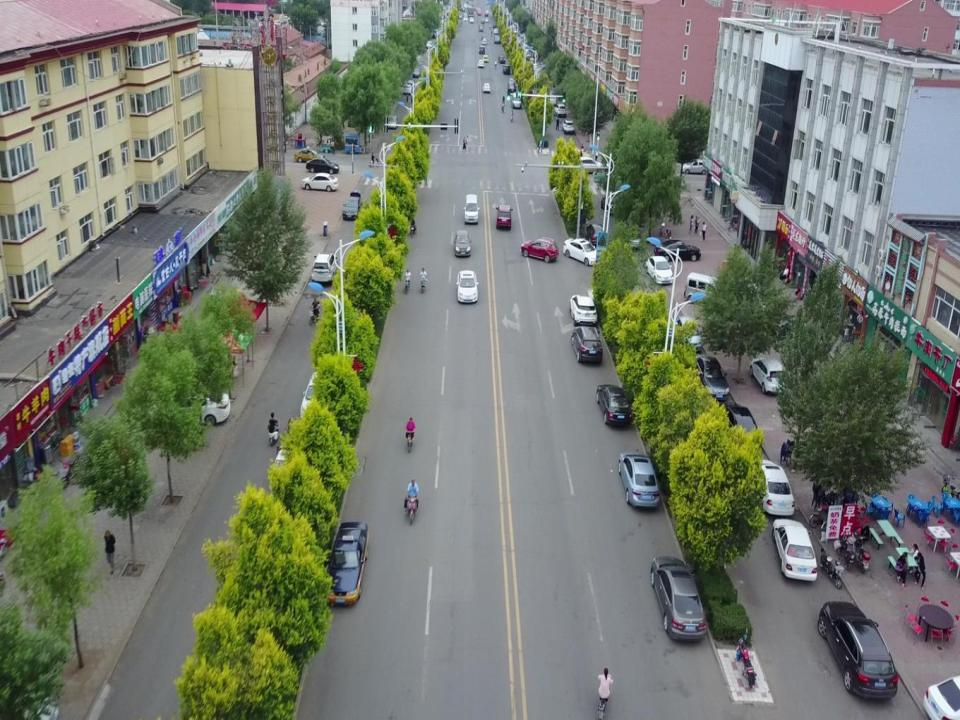car: (815, 600, 898, 700), (649, 553, 709, 645), (326, 520, 368, 607), (144, 390, 232, 426), (772, 515, 818, 581), (296, 365, 345, 418), (616, 449, 660, 508), (749, 281, 792, 338), (268, 443, 316, 493), (718, 398, 762, 451), (596, 380, 635, 428), (692, 354, 730, 400), (749, 358, 789, 394), (569, 325, 606, 362), (674, 311, 705, 353), (654, 239, 704, 263), (562, 237, 605, 264), (519, 235, 560, 262), (642, 254, 674, 284), (454, 270, 482, 304), (567, 294, 600, 322), (310, 254, 339, 282), (340, 191, 363, 223), (300, 174, 338, 193), (305, 155, 339, 176), (451, 229, 474, 258), (567, 155, 604, 173), (461, 195, 481, 226), (598, 191, 623, 214), (494, 202, 514, 229), (623, 226, 645, 249), (293, 146, 320, 163), (585, 223, 606, 243), (511, 90, 523, 108), (386, 116, 398, 129), (507, 76, 518, 86), (506, 84, 518, 93), (482, 82, 491, 92), (476, 59, 484, 70), (404, 83, 412, 93), (503, 64, 511, 74), (412, 68, 421, 76), (498, 55, 506, 64), (406, 80, 414, 88), (478, 46, 485, 54), (482, 56, 489, 63)
van: (683, 270, 734, 307)
